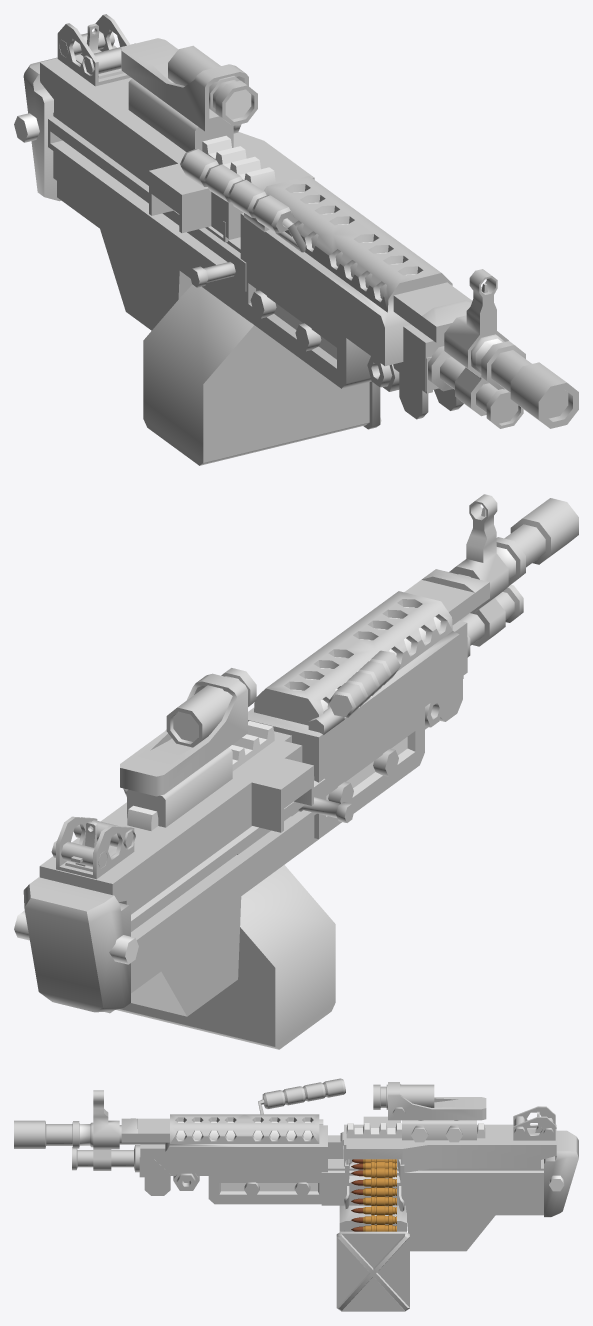
File: MidWeightMachineGun.fbx
The picture shows the model from 3 angles, top to bottom: view 1: azimuth 30°, elevation 25°; view 2: azimuth 150°, elevation 25°; view 3: azimuth 270°, elevation 25°; orthographic projection. The views are drawn at different scales.
Visible parts, largest first — view 1: MidWeight_MachineGun; view 2: MidWeight_MachineGun; view 3: MidWeight_MachineGun.
Part boxes in pixels (x1=…): MidWeight_MachineGun: x1=14, y1=14, x2=578, y2=465; MidWeight_MachineGun: x1=14, y1=494, x2=578, y2=1049; MidWeight_MachineGun: x1=14, y1=1078, x2=578, y2=1311.
Size of the model in its own units: 37.98 by 63.47 by 166.
